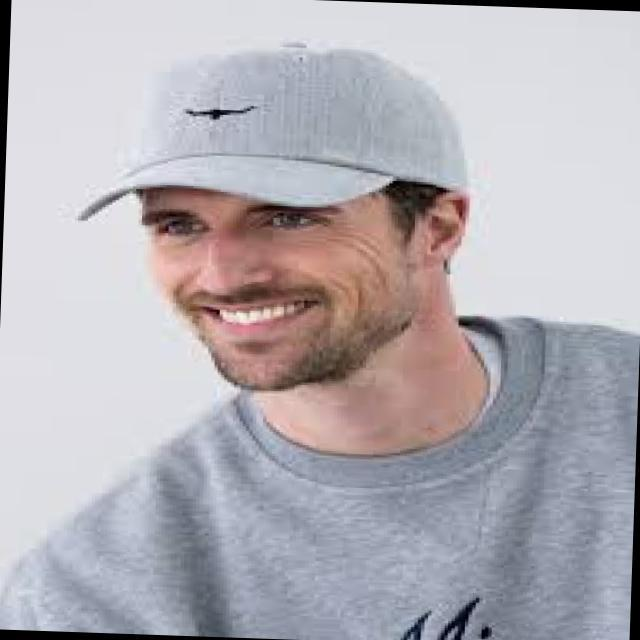cap: (46, 11, 514, 272)
